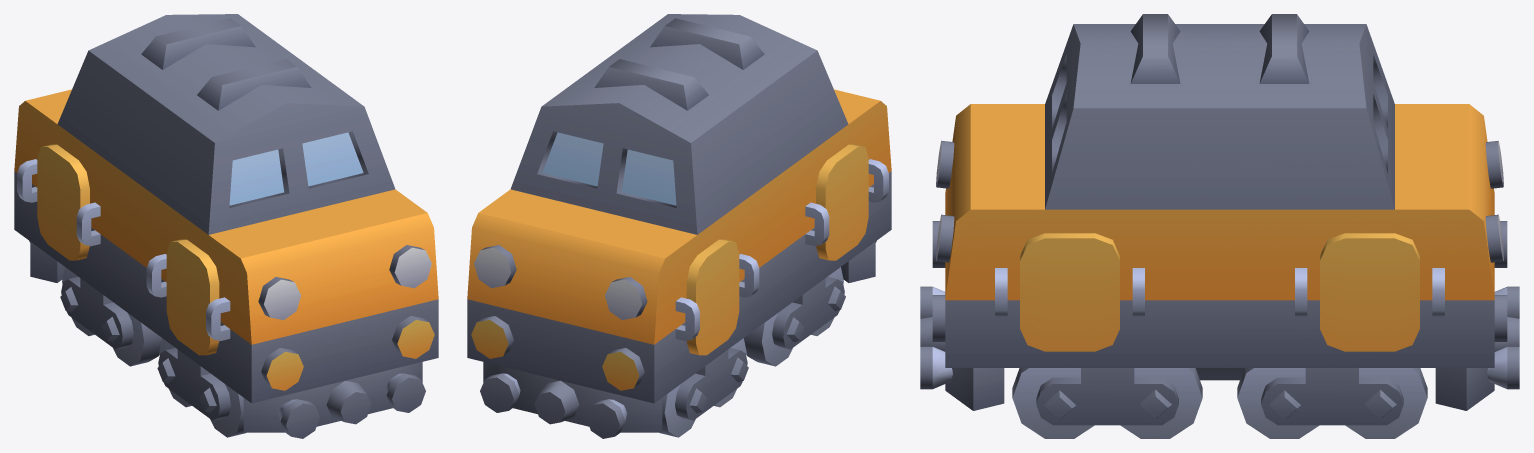
The model's file is train-diesel-a.glb.
The picture shows the model from 3 angles, left to right: view 1: azimuth 30°, elevation 25°; view 2: azimuth 150°, elevation 25°; view 3: azimuth 270°, elevation 25°; orthographic projection. The views are drawn at different scales.
Visible parts, largest first — view 1: train-diesel-a; view 2: train-diesel-a; view 3: train-diesel-a.
Boxes of the visible parts, <box> form: train-diesel-a: <box>14,14,438,438</box>; train-diesel-a: <box>467,14,891,438</box>; train-diesel-a: <box>920,14,1519,438</box>.
Bounding box in the file's own units: 1.2 × 1.6 × 2.4.
1 material, 1 textured.
